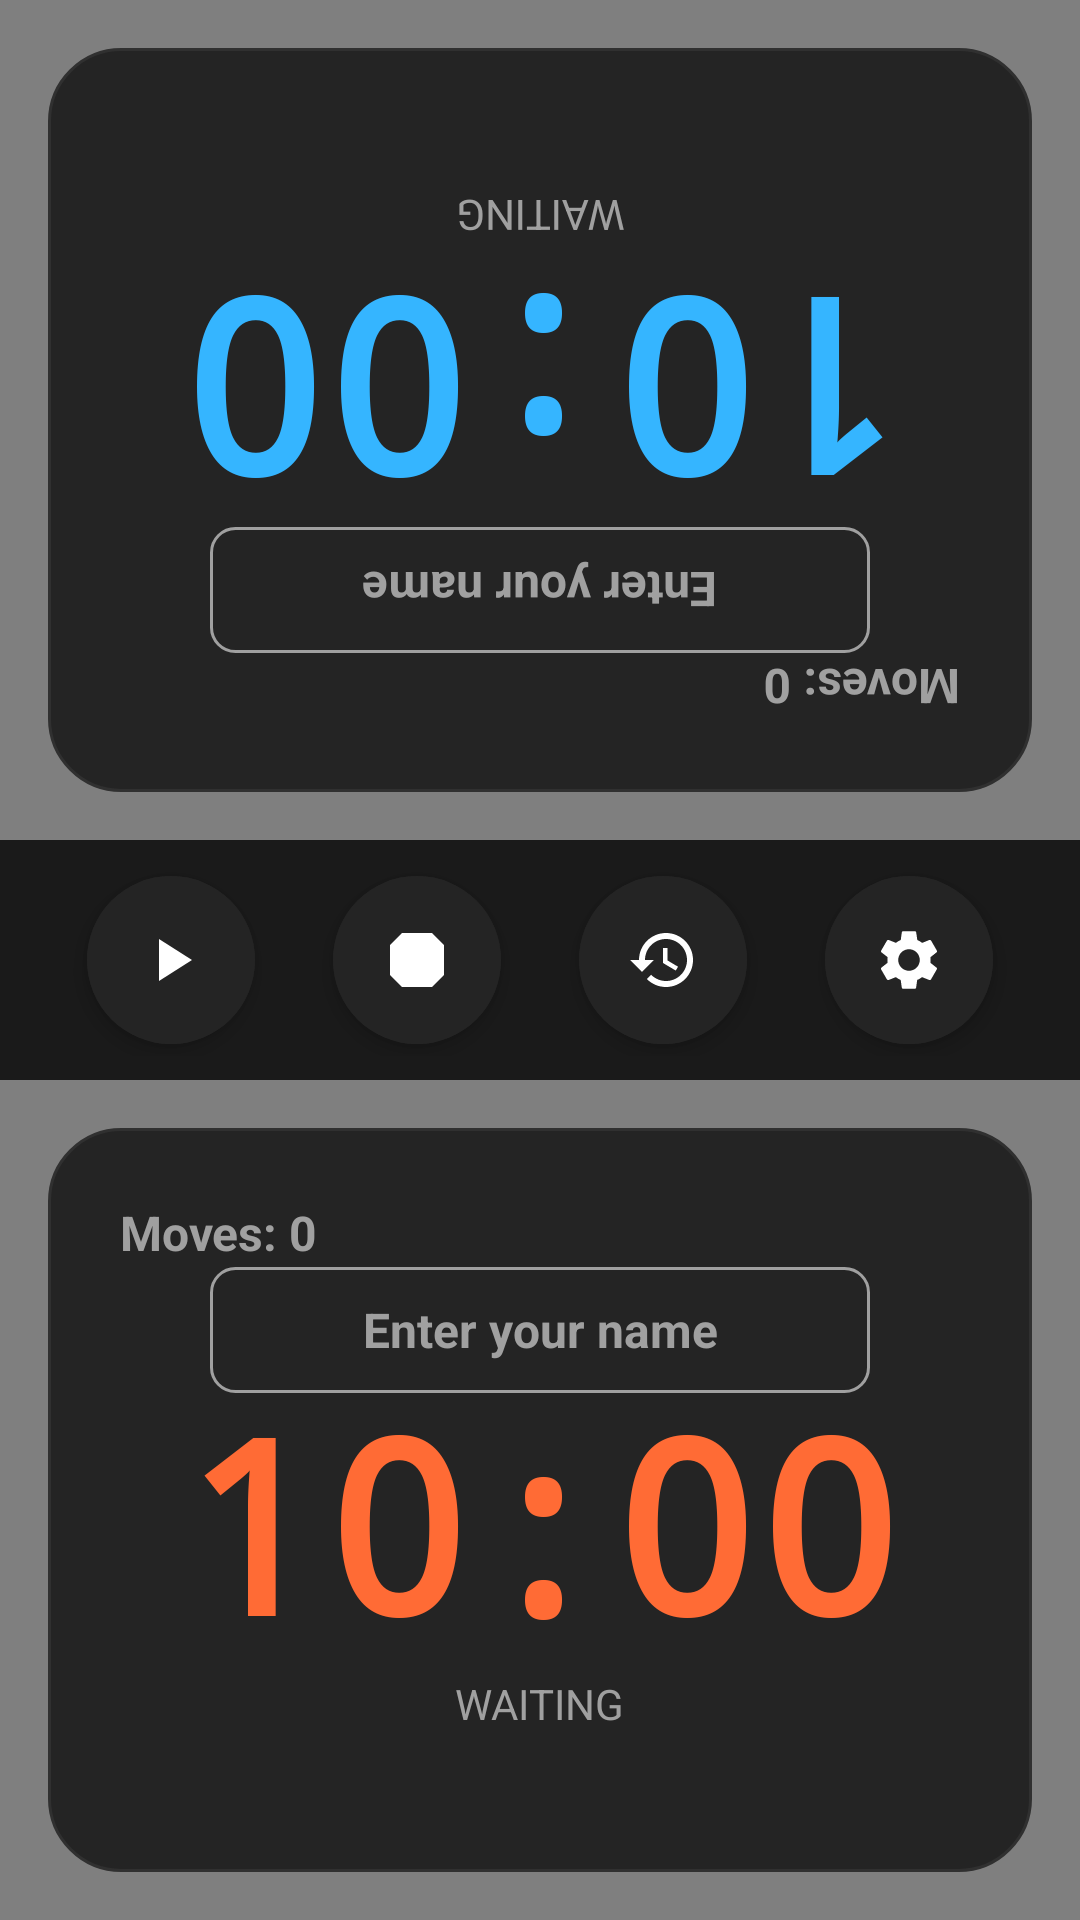

Where to tap for icons on this 1080w x 1920h app screen, as point (x, y):
Chess timer settings: point (909, 960)
End chess game: point (417, 960)
Open chess game records: point (663, 960)
Start chess timer: point (175, 960)
